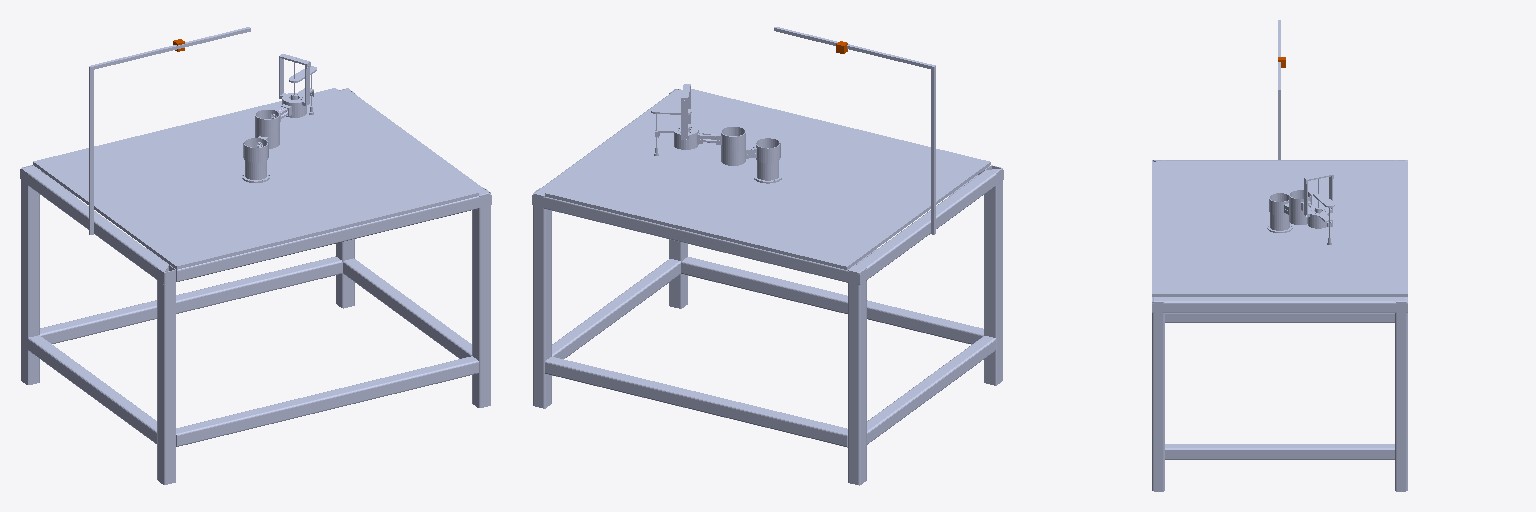
The robot description file, URDF, robot "FINAL2":
<?xml version="1.0" encoding="utf-8"?>
<!-- This URDF was automatically created by SolidWorks to URDF Exporter! Originally created by [author] ([email redacted]) 
     Commit Version: 1.6.0-1-g15f4949  Build Version: 1.6.7594.29634
     For more information, please see http://wiki.ros.org/sw_urdf_exporter -->
<robot
  name="FINAL2">
  <link
    name="base_link">
    <inertial>
      <origin
        xyz="0.622726366636862 -1.81372687312086 1.35928862870456"
        rpy="0 0 0" />
      <mass
        value="90.1464575046252" />
      <inertia
        ixx="15.2781869413404"
        ixy="0.00128477633417402"
        ixz="-0.0515083960585897"
        iyy="23.4368526779339"
        iyz="-3.29162697291248E-06"
        izz="36.4475162167051" />
    </inertial>
    <visual>
      <origin
        xyz="0 0 0"
        rpy="0 0 0" />
      <geometry>
        <mesh
          filename="package://FINAL2/meshes/base_link.STL" />
      </geometry>
      <material
        name="">
        <color
          rgba="0.792156862745098 0.819607843137255 0.933333333333333 1" />
      </material>
    </visual>
    <collision>
      <origin
        xyz="0 0 0"
        rpy="0 0 0" />
      <geometry>
        <mesh
          filename="package://FINAL2/meshes/base_link.STL" />
      </geometry>
    </collision>
  </link>

<link name="world"/>
  <joint name="fixed" type="fixed">
    <parent link="world"/>
    <child link="base_link"/>
  </joint>

  <link
    name="Link1">
    <inertial>
      <origin
        xyz="-0.0687305098937103 -0.0507693319491227 -0.104332227947937"
        rpy="0 0 0" />
      <mass
        value="0.976163040123351" />
      <inertia
        ixx="0.00201305239158336"
        ixy="-2.15393983512201E-05"
        ixz="-0.00012013320427412"
        iyy="0.00281358738097161"
        iyz="-3.80839389933779E-05"
        izz="0.00191678384392571" />
    </inertial>
    <visual>
      <origin
        xyz="0 0 0"
        rpy="0 0 0" />
      <geometry>
        <mesh
          filename="package://FINAL2/meshes/Link1.STL" />
      </geometry>
      <material
        name="">
        <color
          rgba="0.792156862745098 0.819607843137255 0.933333333333333 1" />
      </material>
    </visual>
    <collision>
      <origin
        xyz="0 0 0"
        rpy="0 0 0" />
      <geometry>
        <mesh
          filename="package://FINAL2/meshes/Link1.STL" />
      </geometry>
    </collision>
  </link>
  <joint
    name="J1"
    type="continuous">
    <origin
      xyz="0.629245024666548 -1.81417261757559 1.65077946513815"
      rpy="-1.57079632679489 0 2.86177928550216" />
    <parent
      link="base_link" />
    <child
      link="Link1" />
    <axis
      xyz="0 1 0" />
   <dynamics damping="0.7"/>
  </joint>
  <link
    name="Link2">
    <inertial>
      <origin
        xyz="0.169737025367563 0.0822519326879336 0.0967715955368738"
        rpy="0 0 0" />
      <mass
        value="1.32366789599919" />
      <inertia
        ixx="0.00303187625514682"
        ixy="-0.00014178082909929"
        ixz="-0.000294162198109447"
        iyy="0.00402537924165747"
        iyz="-7.49210556824996E-05"
        izz="0.00338972842955354" />
    </inertial>
    <visual>
      <origin
        xyz="0 0 0"
        rpy="0 0 0" />
      <geometry>
        <mesh
          filename="package://FINAL2/meshes/Link2.STL" />
      </geometry>
      <material
        name="">
        <color
          rgba="0.792156862745098 0.819607843137255 0.933333333333333 1" />
      </material>
    </visual>
    <collision>
      <origin
        xyz="0 0 0"
        rpy="0 0 0" />
      <geometry>
        <mesh
          filename="package://FINAL2/meshes/Link2.STL" />
      </geometry>
    </collision>
  </link>
  <joint
    name="J2"
    type="continuous">
    <origin
      xyz="-0.10607 -0.0879 -0.16145"
      rpy="0 1.2406 -3.1416" />
    <parent
      link="Link1" />
    <child
      link="Link2" />
    <axis
      xyz="0 1 0" />
       <dynamics damping="0.7"/>
  </joint>
  <link
    name="Link3">
    <inertial>
      <origin
        xyz="-0.069541 0.16585 0.035557"
        rpy="0 0 0" />
      <mass
        value="0.16461" />
      <inertia
        ixx="0.00034895"
        ixy="1.2244E-18"
        ixz="-0.00018938"
        iyy="0.00052943"
        iyz="-1.025E-17"
        izz="0.00057402" />
    </inertial>
    <visual>
      <origin
        xyz="0 0 0"
        rpy="0 0 0" />
      <geometry>
        <mesh
          filename="package://FINAL2/meshes/Link3.STL" />
      </geometry>
      <material
        name="">
        <color
          rgba="0.79216 0.81961 0.93333 1" />
      </material>
    </visual>
    <collision>
      <origin
        xyz="0 0 0"
        rpy="0 0 0" />
      <geometry>
        <mesh
          filename="package://FINAL2/meshes/Link3.STL" />
      </geometry>
    </collision>
  </link>
  <joint
    name="J3"
    type="prismatic">
    <origin
      xyz="0.3797 0 0.14093"
      rpy="0 0 0" />
    <parent
      link="Link2" />
    <child
      link="Link3" />
    <axis
      xyz="0 1 0" />
     <limit lower="-0.09" upper="0.1" effort="100" velocity="50"/>

   <dynamics damping="0.7"/>
  </joint>

<gazebo reference="camera_link">
    <mu1>0.2</mu1>
    <mu2>0.2</mu2>
    <material>Gazebo/Red</material>
  </gazebo>

 <joint name="camera_joint" type="fixed">
    <axis xyz="0 1 0"/>
    <origin rpy="0 0 0" xyz="0.15 -1.8 2.44"/>
    <parent link="base_link"/>
    <child link="camera_link"/>
  </joint>
  <!-- Camera -->
  <link name="camera_link">
    <collision>
      <origin rpy="0 0 0" xyz="0 0 0"/>
      <geometry>
        <box size="0.05 0.05 0.05"/>
      </geometry>
    </collision>
    <visual>
      <origin rpy="0 0 0" xyz="0 0 0"/>
      <geometry>
        <box size="0.05 0.05 0.05"/>
      </geometry>
      <material name="red"/>
    </visual>
    <inertial>
      <mass value="1e-5"/>
      <origin rpy="0 0 0" xyz="0 0 0"/>
      <inertia ixx="1e-6" ixy="0" ixz="0" iyy="1e-6" iyz="0" izz="1e-6"/>
    </inertial>
  </link>
  <!-- generate an optical frame http://www.ros.org/reps/rep-0103.html#suffix-frames
      so that ros and opencv can operate on the camera frame correctly -->
  <joint name="camera_optical_joint" type="fixed">
    <!-- these values have to be these values otherwise the gazebo camera image
        won't be aligned properly with the frame it is supposedly originating from -->
    <origin rpy="-1.57079632679 0 -1.57079632679" xyz="0 0 0"/>
    <parent link="camera_link"/>
    <child link="camera_link_optical"/>
  </joint>
  <link name="camera_link_optical">
  </link>

  <!-- camera -->
  <gazebo reference="camera_link">
    <sensor name="camera1" type="camera">
      <update_rate>30.0</update_rate>
      <camera name="head">
        <horizontal_fov>1.3962634</horizontal_fov>
        <image>
          <width>800</width>
          <height>800</height>
          <format>R8G8B8</format>
        </image>
        <clip>
          <near>0.02</near>
          <far>300</far>
        </clip>
        <noise>
          <type>gaussian</type>
          <!-- Noise is sampled independently per pixel on each frame.
               That pixel's noise value is added to each of its color
               channels, which at that point lie in the range [0,1]. -->
          <mean>0.0</mean>
          <stddev>0.007</stddev>
        </noise>
      </camera>
      <plugin filename="libgazebo_ros_camera.so" name="camera_controller">
        <alwaysOn>true</alwaysOn>
        <updateRate>0.0</updateRate>
        <cameraName>FINAL/camera1</cameraName>
        <imageTopicName>image_raw</imageTopicName>
        <cameraInfoTopicName>camera_info</cameraInfoTopicName>
        <frameName>camera_link_optical</frameName>
        <!-- setting hackBaseline to anything but 0.0 will cause a misalignment
            between the gazebo sensor image and the frame it is supposed to
            be attached to -->
        <hackBaseline>0.0</hackBaseline>
        <distortionK1>0.0</distortionK1>
        <distortionK2>0.0</distortionK2>
        <distortionK3>0.0</distortionK3>
        <distortionT1>0.0</distortionT1>
        <distortionT2>0.0</distortionT2>
        <CxPrime>0</CxPrime>
        <Cx>0.0</Cx>
        <Cy>0.0</Cy>
        <focalLength>0.0</focalLength>
 <commandTopic>cmd_vel</commandTopic>
       <odometryTopic>odom</odometryTopic>
      </plugin>
    </sensor>
  </gazebo>

<transmission name="trans_j1">
        <type>transmission_interface/SimpleTransmission</type>
        <joint name="J1">
            <hardwareInterface>hardware_interface/EffortJointInterface</hardwareInterface>
        </joint>
        <actuator name="j1_motor">
            <hardwareInterface>hardware_interface/EffortJointInterface</hardwareInterface>
            <mechanicalReduction>1</mechanicalReduction>
        </actuator>
    </transmission>
    <transmission name="trans_J2">
        <type>transmission_interface/SimpleTransmission</type>
        <joint name="J2">
            <hardwareInterface>hardware_interface/EffortJointInterface</hardwareInterface>
        </joint>
        <actuator name="J2_motor">
            <hardwareInterface>hardware_interface/EffortJointInterface</hardwareInterface>
            <mechanicalReduction>1</mechanicalReduction>
        </actuator>
    </transmission>
    <transmission name="trans_j3">
        <type>transmission_interface/SimpleTransmission</type>
        <joint name="J3">
            <hardwareInterface>hardware_interface/EffortJointInterface</hardwareInterface>
        </joint>
        <actuator name="j3_motor">
            <hardwareInterface>hardware_interface/EffortJointInterface</hardwareInterface>
            <mechanicalReduction>1</mechanicalReduction>
        </actuator>
    </transmission>
 <gazebo>
        <plugin name="gazebo_ros_control" filename="libgazebo_ros_control.so">
            <robotNamespace>/FINAL2</robotNamespace>
        </plugin>
    </gazebo>
</robot>

--- Render facts (derived) ---
The picture shows the robot from 3 angles, left to right: view 1: azimuth 30°, elevation 25°; view 2: azimuth 150°, elevation 25°; view 3: azimuth 270°, elevation 25°; orthographic projection.
Model FINAL2 with 7 links and 6 joints (2 continuous, 1 prismatic, 3 fixed), rooted at world, posed all joints at 0.
Links seen in each view (by area): view 1: base_link, Link2, Link1; view 2: base_link, Link2, Link1; view 3: base_link, Link2, Link1.
Link boxes in pixels (x1,y1,x2,y2): base_link: (20,27,491,484); Link2: (255,54,313,134); Link1: (243,131,279,162); base_link: (532,27,1003,485); Link2: (655,84,745,151); Link1: (721,138,780,165); base_link: (1152,20,1407,491); Link2: (1289,172,1333,228); Link1: (1269,193,1306,224).
Size in the robot's own frame: 2.1 by 1.58 by 2.24 metres.
Meshes: 4 distinct files referenced, 4 mesh visuals loaded (4 binary STL).
